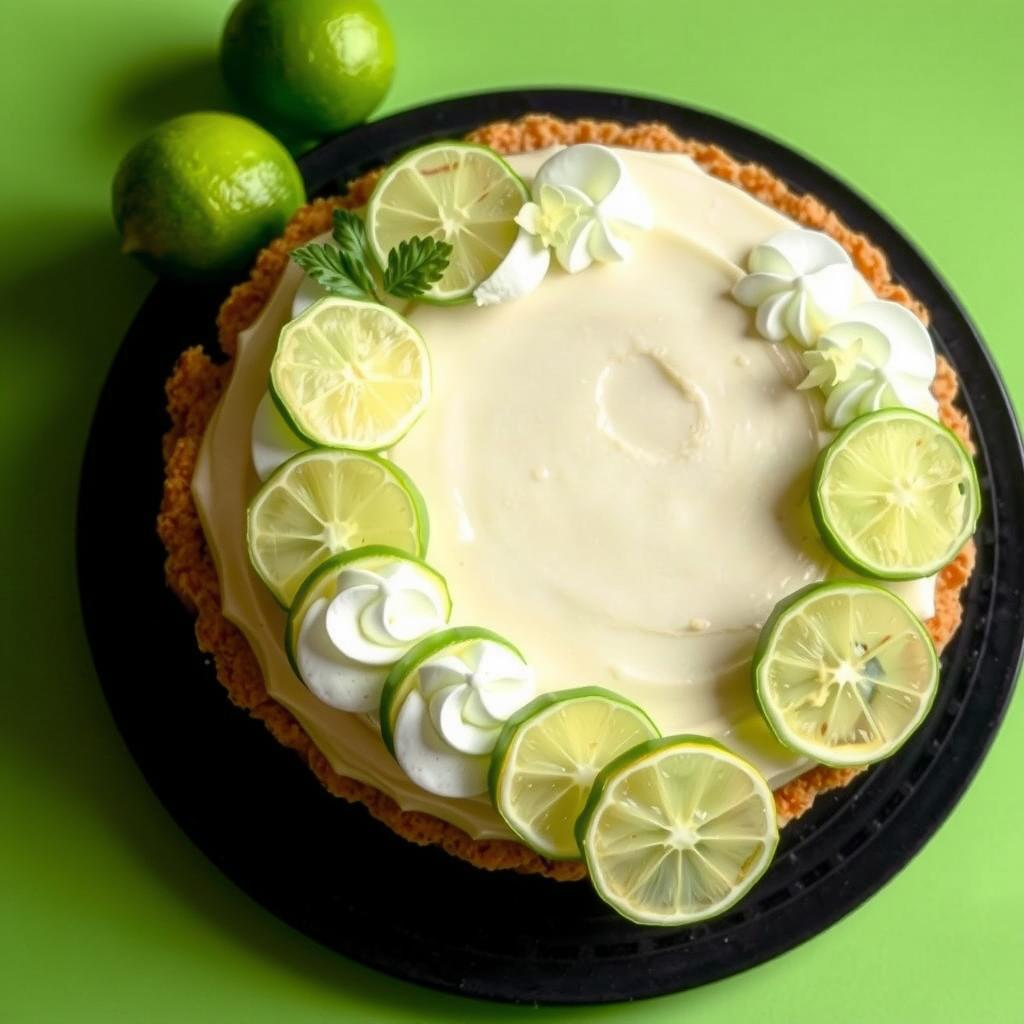pie: (140, 107, 1001, 906)
